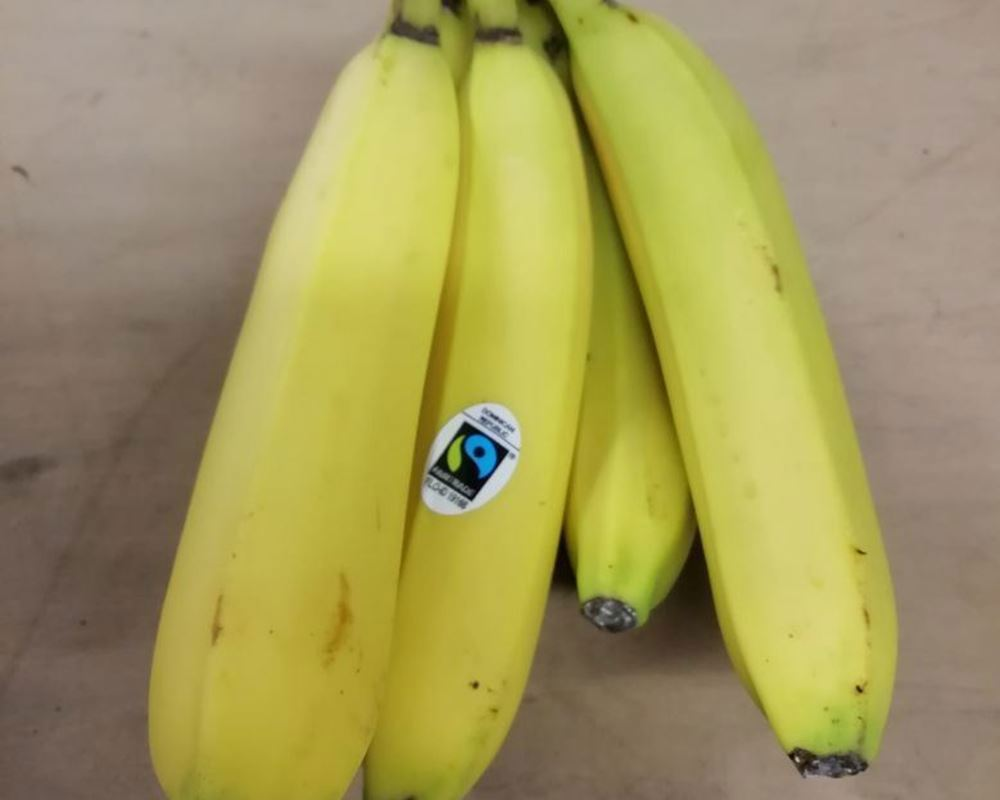banana: (136, 10, 897, 797)
